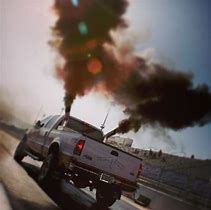smoke: (49, 1, 126, 109), (117, 54, 211, 136)
